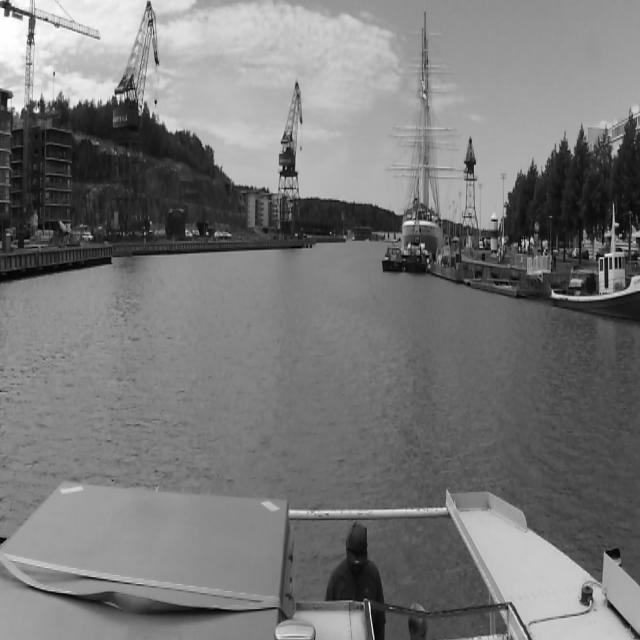ship: (384, 18, 466, 247), (548, 208, 640, 318), (377, 240, 405, 271), (406, 247, 426, 273)
